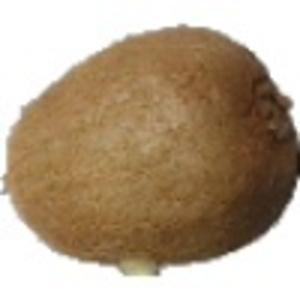kiwi: (1, 24, 300, 283)
